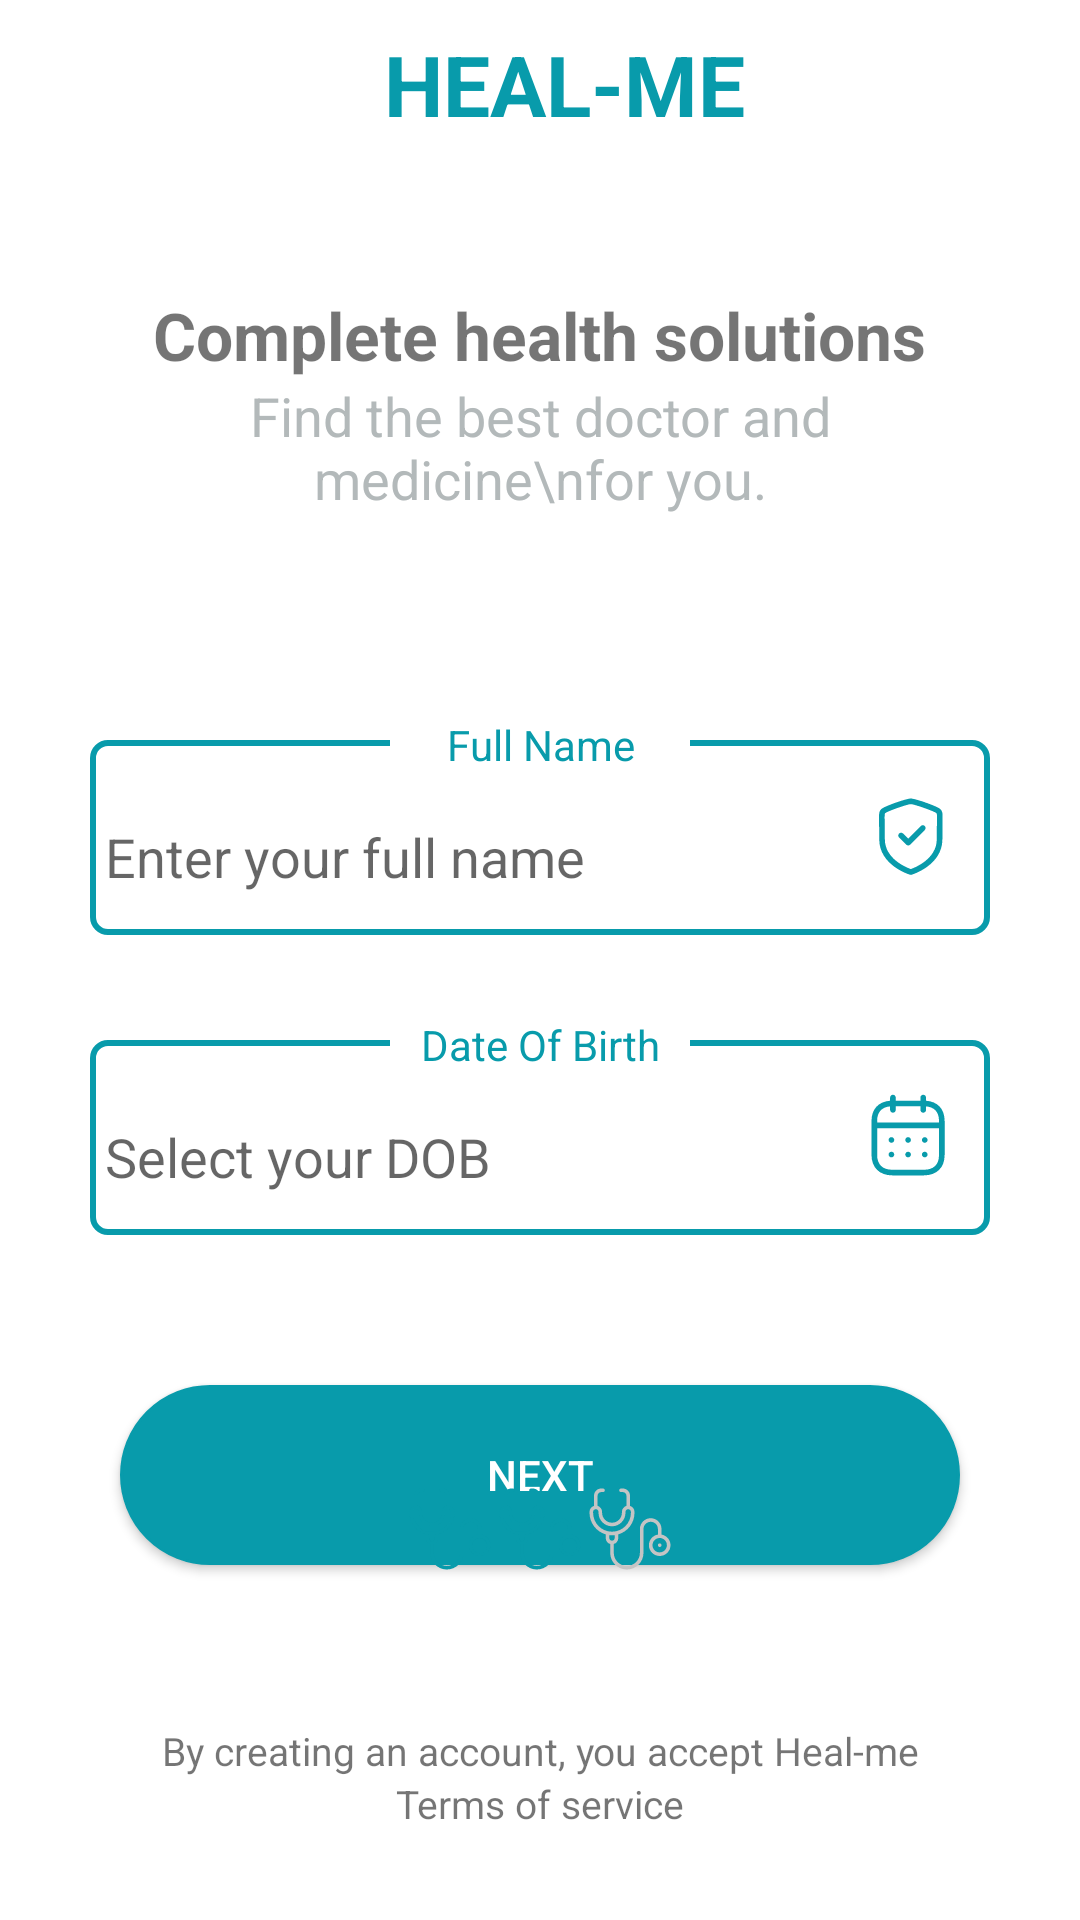

Icon click points for this 1080px x 1920px phone screenshot, format (x=x, y=y):
calendar: (x=908, y=1135)
shield done: (x=911, y=836)
